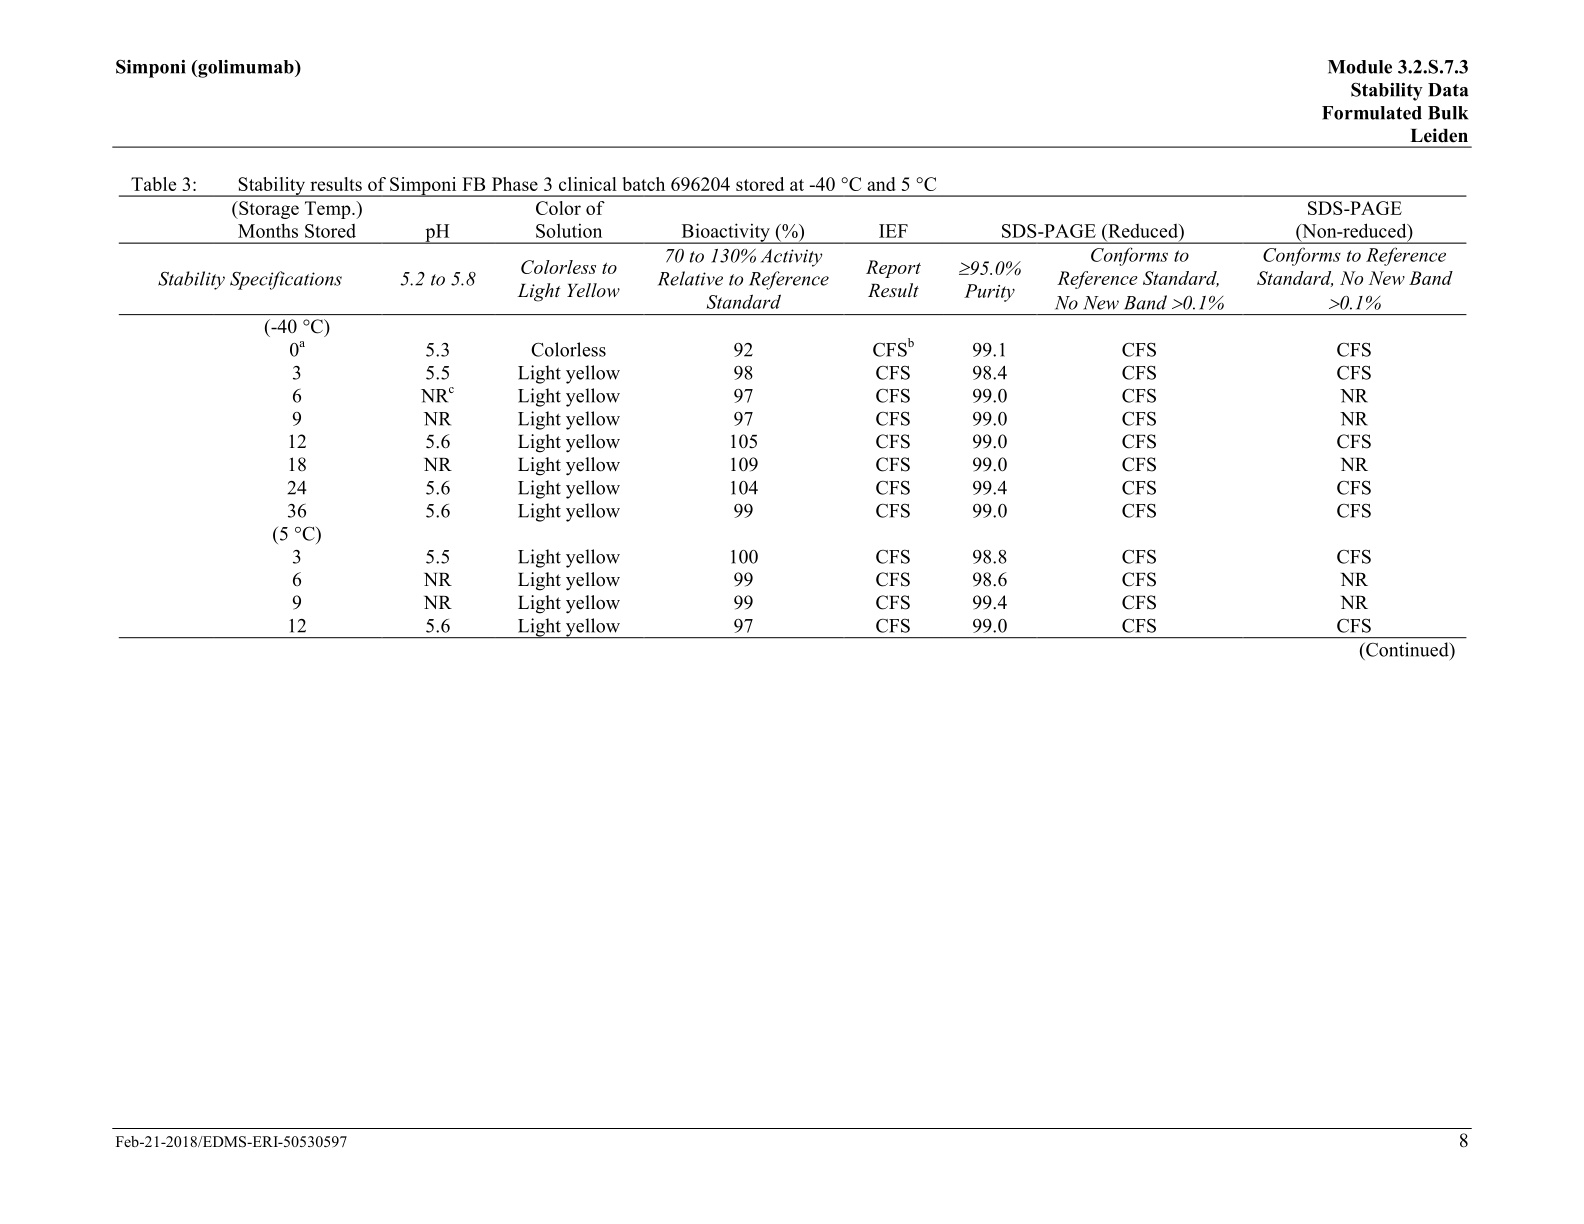partial_lined: (117, 194, 1470, 642)
